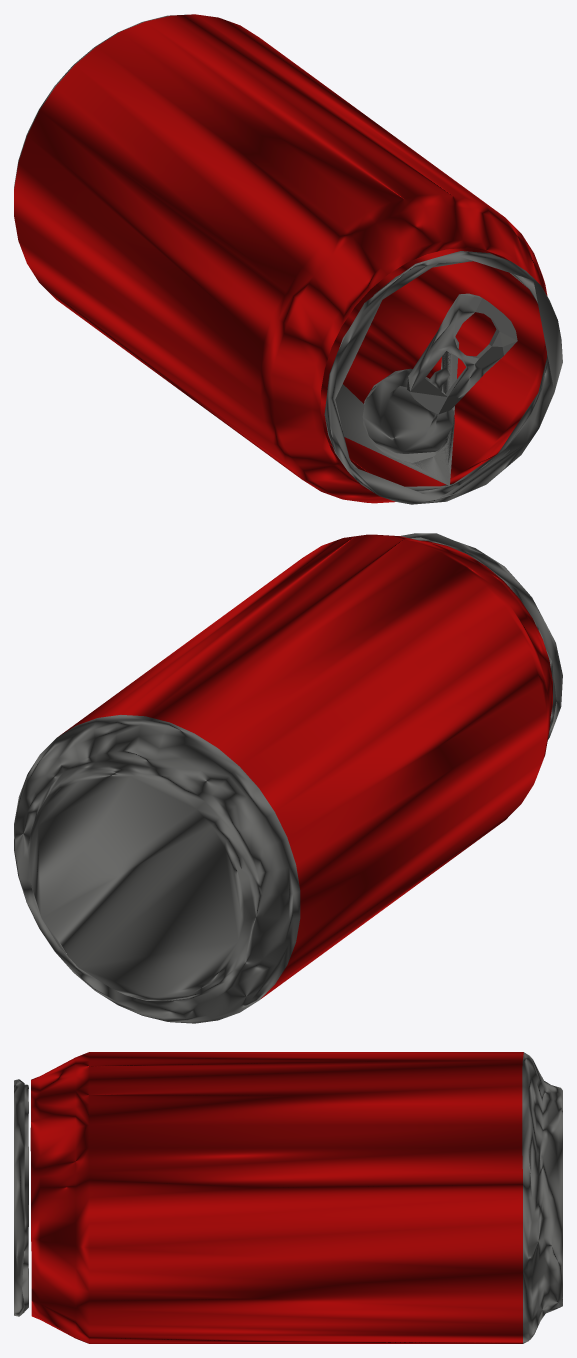
File: model_align.obj
3 views of the same model, one above another, from view 1: azimuth 30°, elevation 25°; view 2: azimuth 150°, elevation 25°; view 3: azimuth 270°, elevation 25° (orthographic). The views are drawn at different scales.
Bounding box in the file's own units: 0.0784 × 0.0784 × 0.148.
